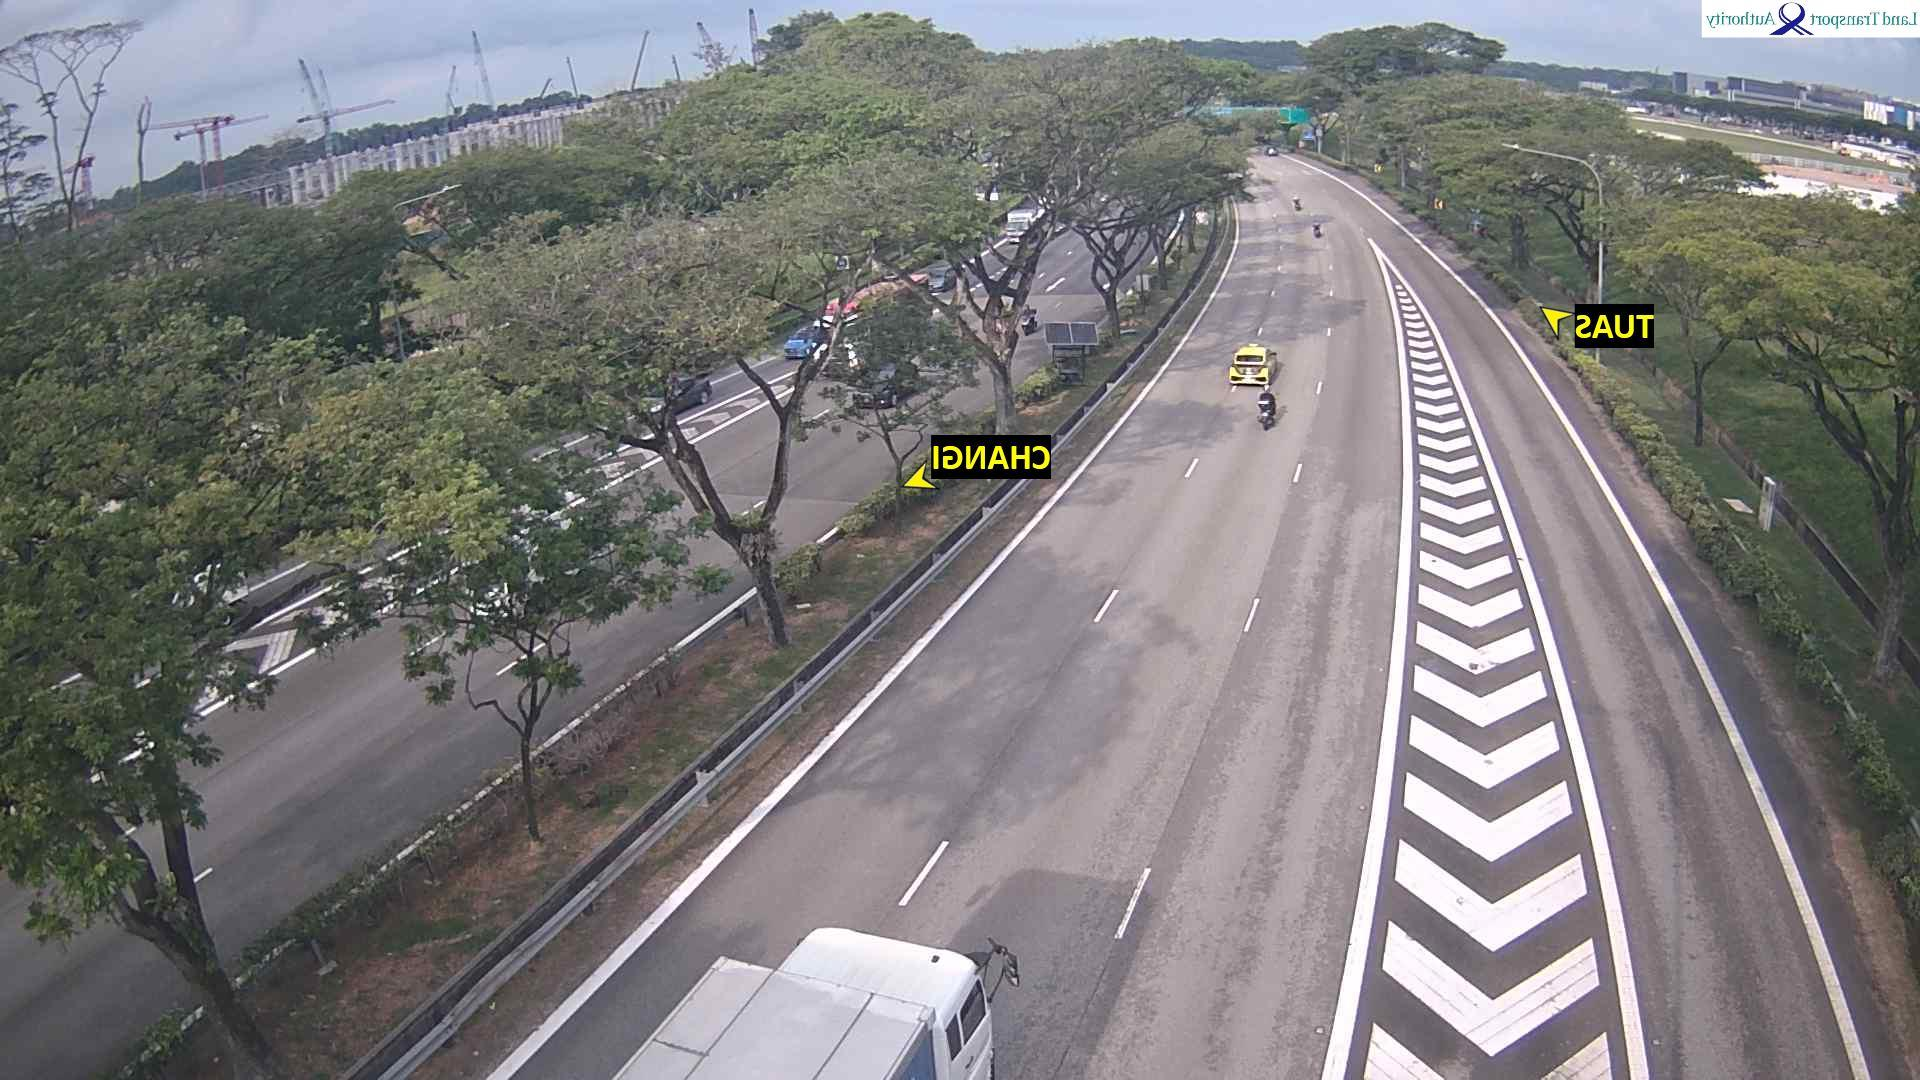incoming: (778, 327, 822, 363), (1001, 218, 1031, 247), (924, 266, 951, 295), (1018, 313, 1038, 339)
